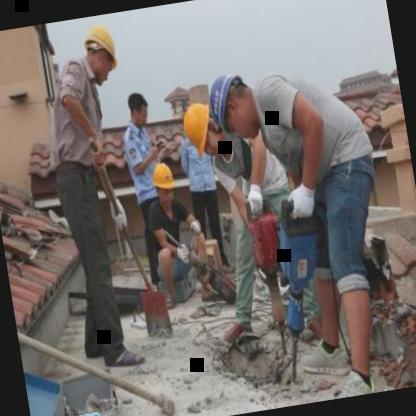head: (122, 88, 154, 130)
helmet: (204, 70, 265, 150), (76, 13, 125, 84), (176, 98, 222, 158), (148, 157, 180, 211)
